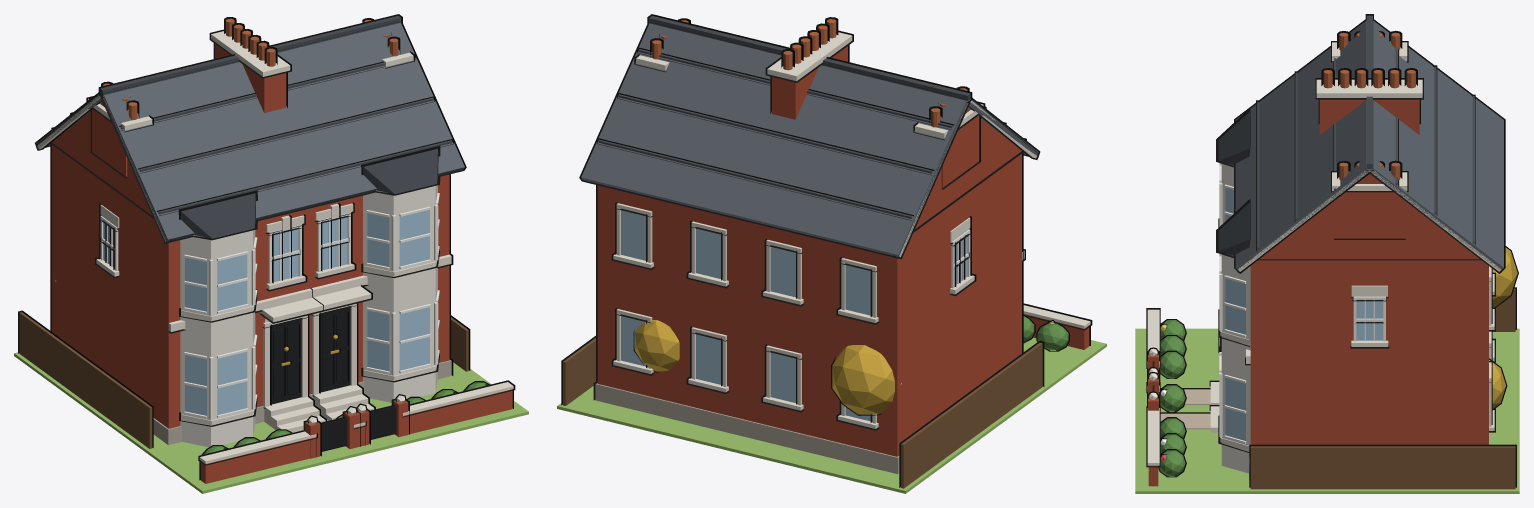
The model's file is MustakilEv_londra_ikiz_1.fbx.
3 views of the same model, side by side, from view 1: azimuth 30°, elevation 25°; view 2: azimuth 150°, elevation 25°; view 3: azimuth 270°, elevation 25° (orthographic). The views are drawn at different scales.
Parts seen in each view (by area): view 1: MustakilEv_londra_ikiz_1; view 2: MustakilEv_londra_ikiz_1; view 3: MustakilEv_londra_ikiz_1.
Boxes of the visible parts, left/top/right/bottom form: MustakilEv_londra_ikiz_1: left=14, top=14, right=528, bottom=493; MustakilEv_londra_ikiz_1: left=557, top=14, right=1106, bottom=493; MustakilEv_londra_ikiz_1: left=1135, top=14, right=1519, bottom=493.
Bounding box in the file's own units: 10 × 9.82 × 10.
